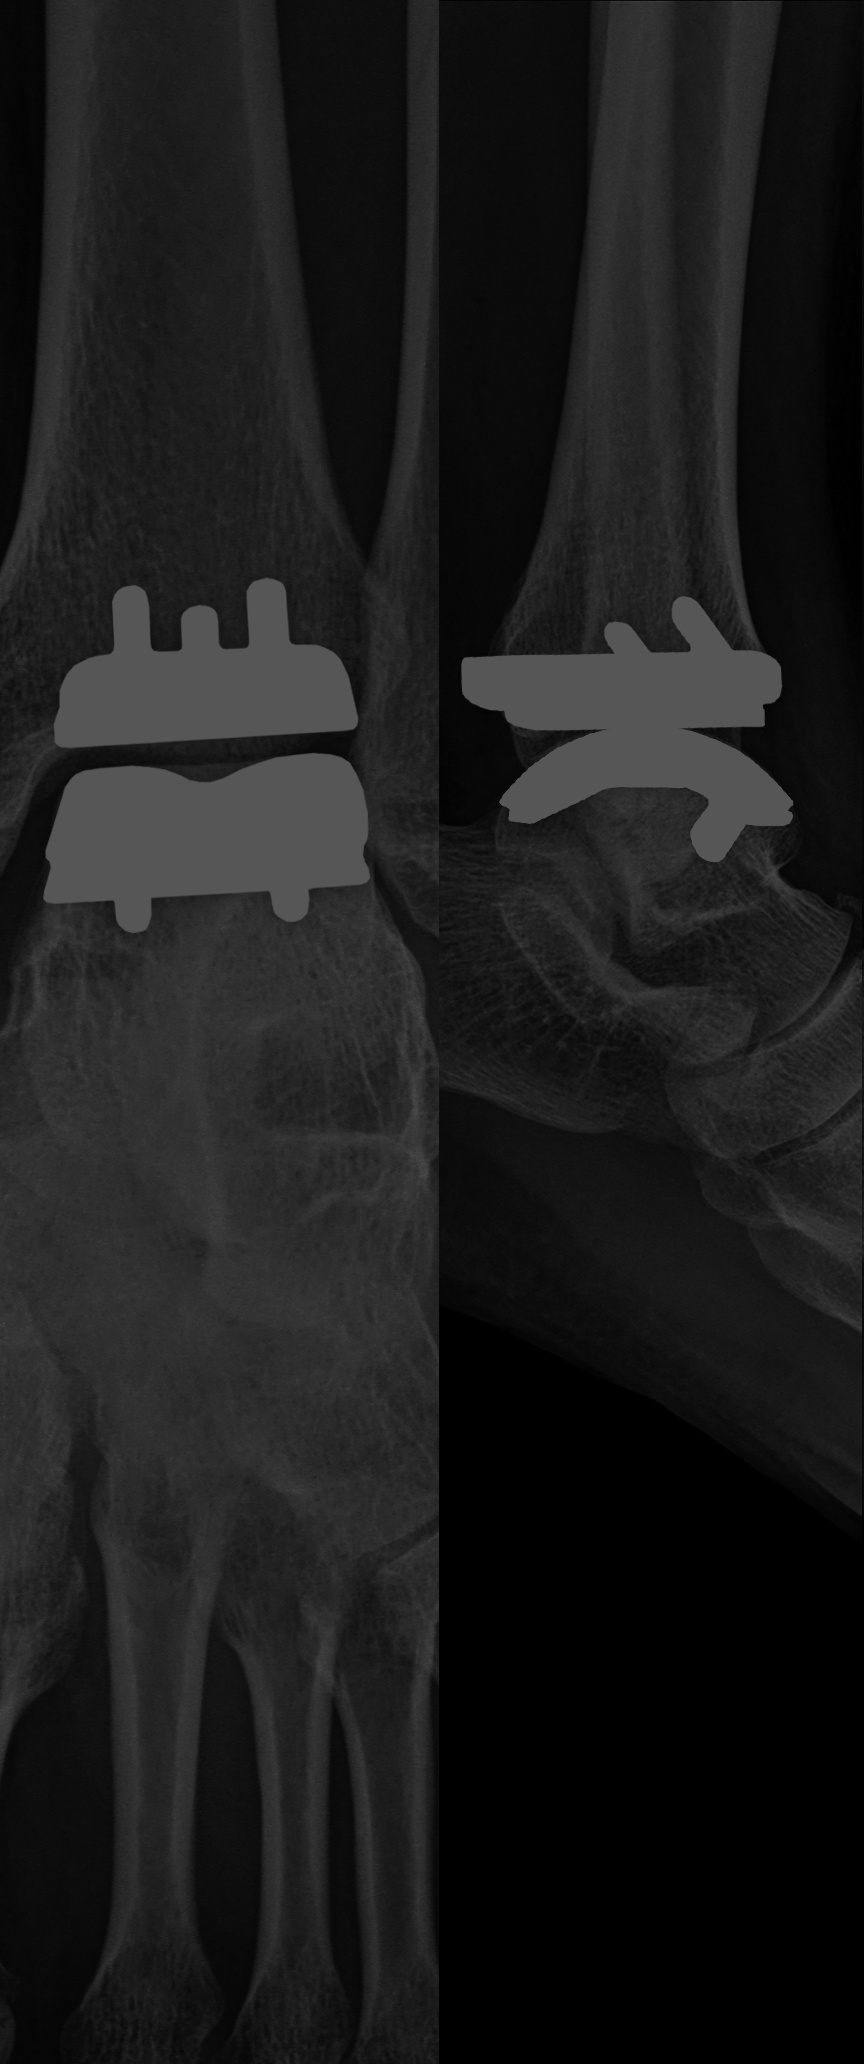Ankle - Infinity - Wright: (25, 566, 383, 950), (439, 592, 827, 875)
